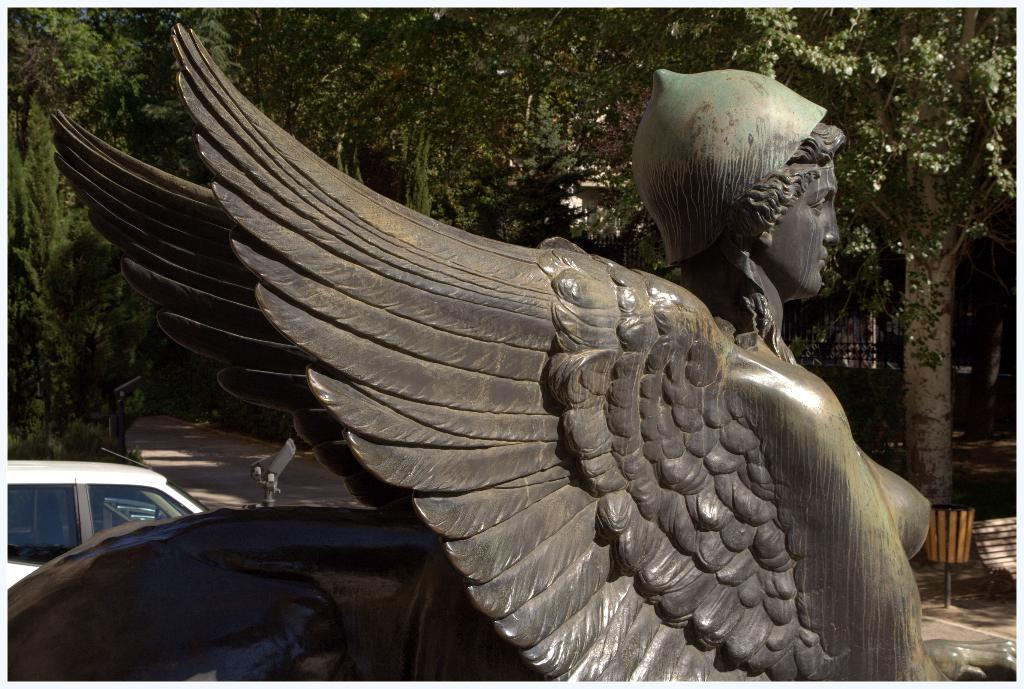face: (746, 157, 844, 290)
